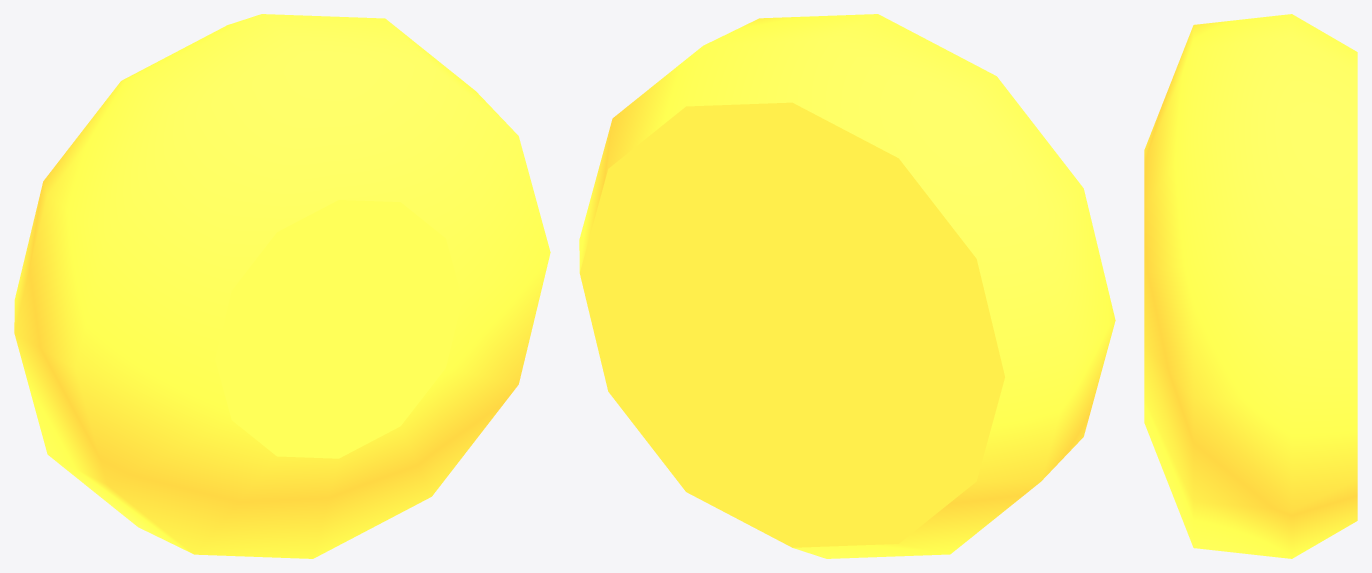
Rendered from SM_Substation_StatusLamp_LOD1.fbx.
3 views of the same model, side by side, from view 1: azimuth 30°, elevation 25°; view 2: azimuth 150°, elevation 25°; view 3: azimuth 270°, elevation 25° (orthographic). The views are drawn at different scales.
Parts seen in each view (by area): view 1: SM_Substation_StatusLamp_LOD1; view 2: SM_Substation_StatusLamp_LOD1; view 3: SM_Substation_StatusLamp_LOD1.
Boxes of the visible parts, box(x1,y1,x2,y2) form: SM_Substation_StatusLamp_LOD1: box(14, 14, 550, 558); SM_Substation_StatusLamp_LOD1: box(579, 14, 1115, 558); SM_Substation_StatusLamp_LOD1: box(1144, 14, 1357, 558).
Size of the model in its own units: 0.1 by 0.039 by 0.1.
